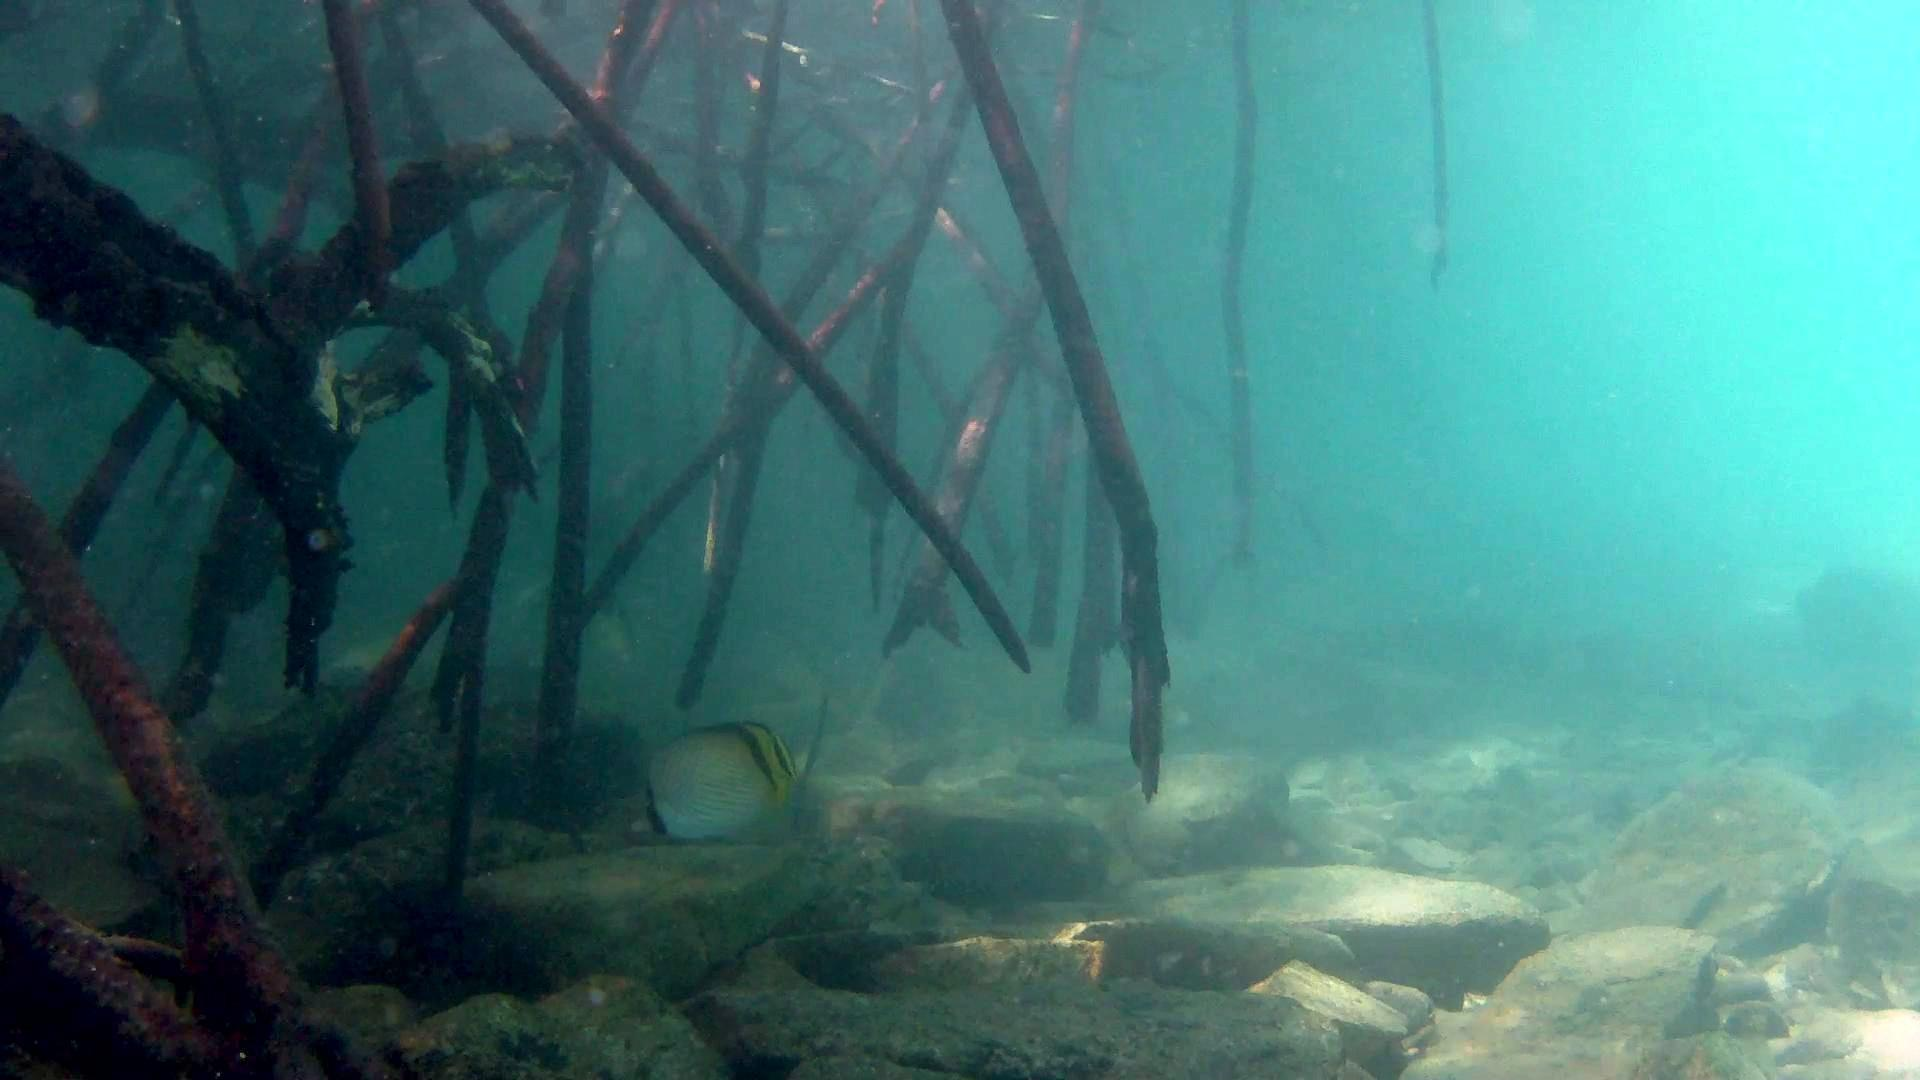chaetodon vagabundus: (625, 716, 803, 845)
